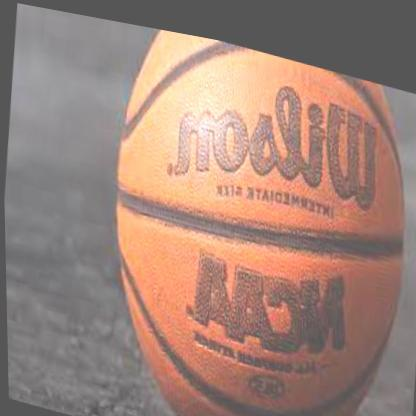basketball: (93, 14, 416, 416)
